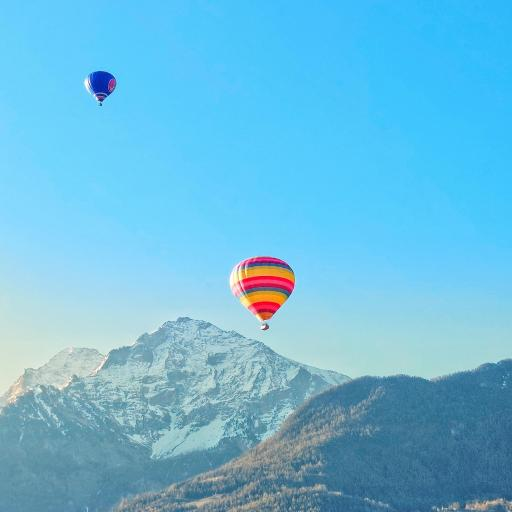hot air ballon: (224, 249, 301, 333), (85, 68, 121, 112)
